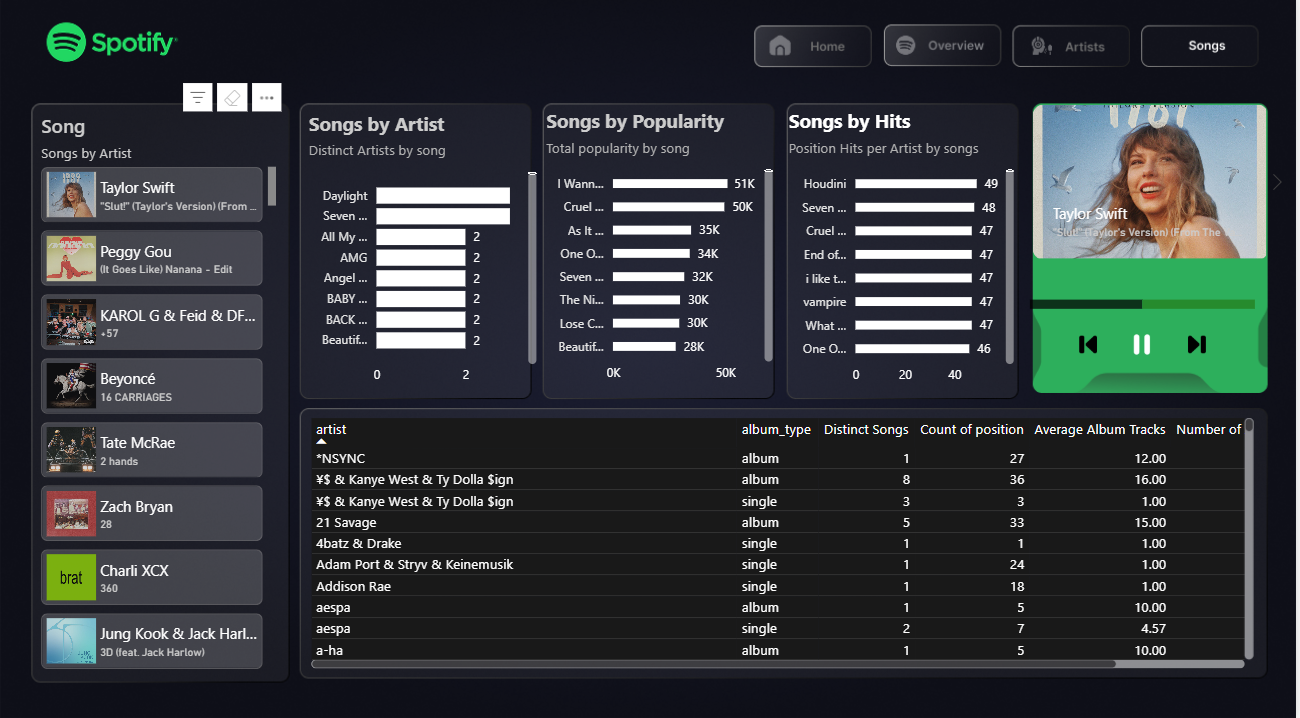

This screenshot's page, from the dashboard's own definition file:
{"tool":"powerbi","page":{"name":"Songs","canvas":[1280,720],"ordinal":3},"visuals":[{"type":"actionButton","box":[749.1,34.5,120,40],"z":0},{"type":"actionButton","box":[869.1,34.7,120,40],"z":1000},{"type":"actionButton","box":[1004.8,34.7,120,40],"z":2000},{"type":"actionButton","box":[1130.5,34.7,120,40],"z":3000},{"type":"clusteredBarChart","title":"Songs by Artist","fields":{"Category":["Top-50-world.song"],"Y":["Top-50-world.Distinct Artists"]},"box":[300,117.5,235,278.8],"z":4000},{"type":"clusteredBarChart","title":"Songs by Popularity","fields":{"Category":["Top-50-world.song"],"Y":["Sum(Top-50-world.popularity)"]},"box":[535,115,233.8,278.8],"z":5000},{"type":"advancedSlicerVisual","title":"Song","fields":{"Values":["Top-50-world.song"]},"box":[36.3,119.5,242.1,554.2],"z":6000},{"type":"tableEx","fields":{"Values":["Top-50-world.artist","Top-50-world.album_type","Top-50-world.Distinct Songs","Count(Top-50-world.position)","Top-50-world.Average Album Tracks","Top-50-world.Number of Albums","Top-50-world.Avg Popularity"]},"box":[301.8,416.4,941.8,257.3],"z":6001},{"type":"clusteredBarChart","title":"Songs by Hits","fields":{"Category":["Top-50-world.song"],"Y":["Count(Top-50-world.position)"]},"box":[773.8,115,232.5,281.2],"z":6002},{"type":"advancedSlicerVisual","fields":{"Values":["Top-50-world.song"]},"box":[994,105,283,164],"z":6003},{"type":"barChart","fields":{"Y":["Top-50-world.Avg Popularity","Avg(Top-50-world.popularity)"]},"box":[1012.9,261.9,258,88],"z":6004},{"type":"image","box":[1161.9,332.9,40,30],"z":6005},{"type":"image","box":[1053.9,332.9,40,30],"z":6006},{"type":"image","box":[1107.9,332.9,40,30],"z":6007},{"type":"shape","box":[1017,105,235.3,295.6],"z":6008}]}

Visuals, with their boxes in screenshot pixels (x1, y1, x2, y2), scaled from the page's 1280x720 canvas onto the 1300x718 screenshot:
actionButton: locate(761, 34, 883, 74)
actionButton: locate(883, 35, 1005, 74)
actionButton: locate(1020, 35, 1142, 74)
actionButton: locate(1148, 35, 1270, 74)
"Songs by Artist" clusteredBarChart: locate(305, 117, 543, 395)
"Songs by Popularity" clusteredBarChart: locate(543, 115, 781, 393)
"Song" advancedSlicerVisual: locate(37, 119, 283, 672)
tableEx - Top-50-world.artist x Top-50-world.album_type: locate(307, 415, 1263, 672)
"Songs by Hits" clusteredBarChart: locate(786, 115, 1022, 395)
advancedSlicerVisual - Top-50-world.song: locate(1010, 105, 1297, 268)
barChart - Top-50-world.Avg Popularity x Avg(Top-50-world.popularity): locate(1029, 261, 1291, 349)
image: locate(1180, 332, 1221, 362)
image: locate(1070, 332, 1111, 362)
image: locate(1125, 332, 1166, 362)
shape: locate(1033, 105, 1272, 399)
